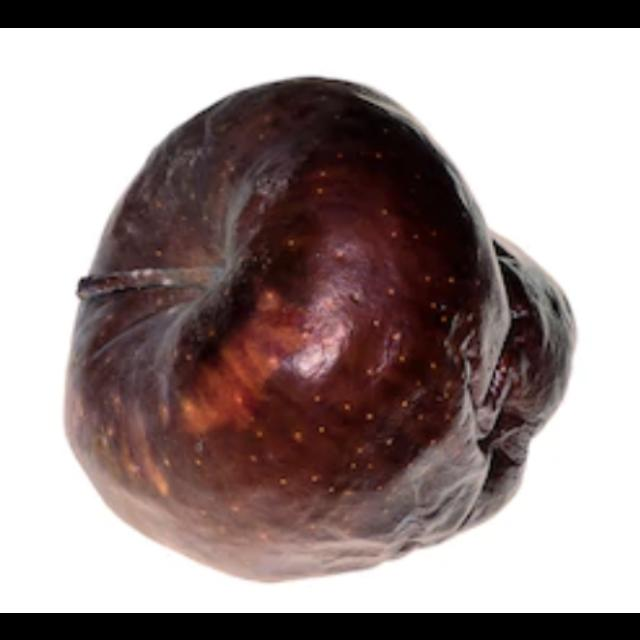Apel Tidak Segar: (69, 60, 586, 586)
